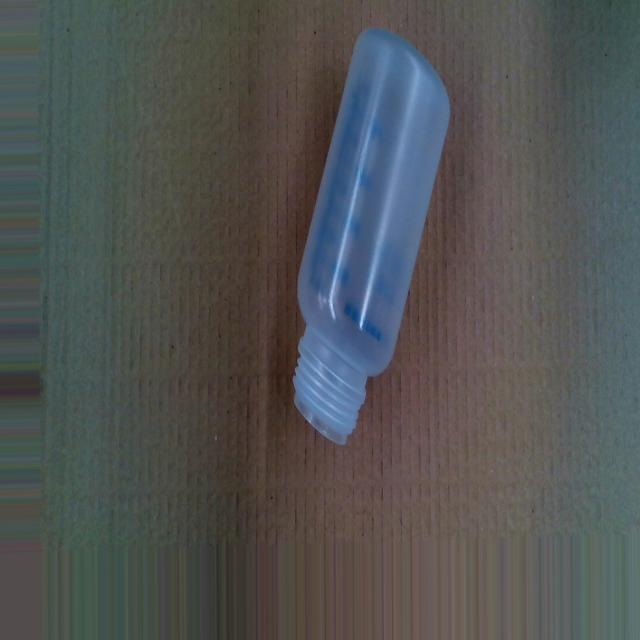bottle: (290, 23, 452, 451)
